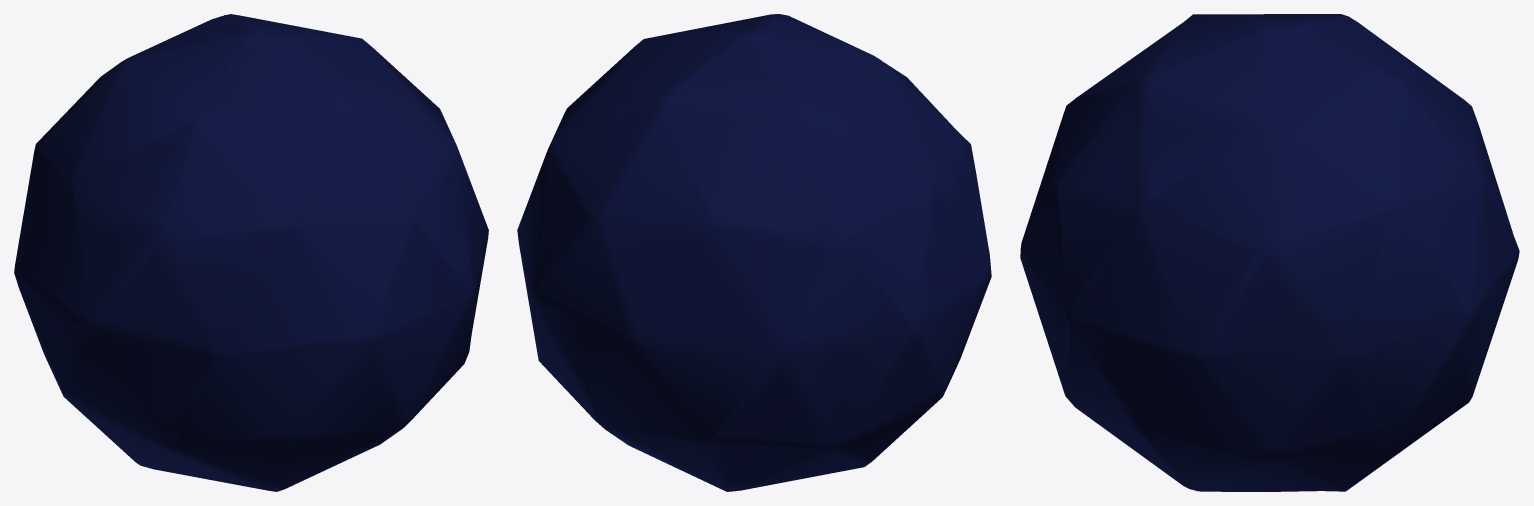
File: gen3d-bowling-ball-lod1.glb
3 renders of one model, left to right at view 1: azimuth 30°, elevation 25°; view 2: azimuth 150°, elevation 25°; view 3: azimuth 270°, elevation 25°, orthographic. The views are drawn at different scales.
Parts seen in each view (by area): view 1: part_0; view 2: part_0; view 3: part_0.
Boxes of the visible parts, left/top/right/bottom form: part_0: left=14, top=14, right=488, bottom=491; part_0: left=517, top=14, right=991, bottom=491; part_0: left=1020, top=14, right=1519, bottom=491.
Size of the model in its own units: 0.9524 by 0.9943 by 0.9956.
